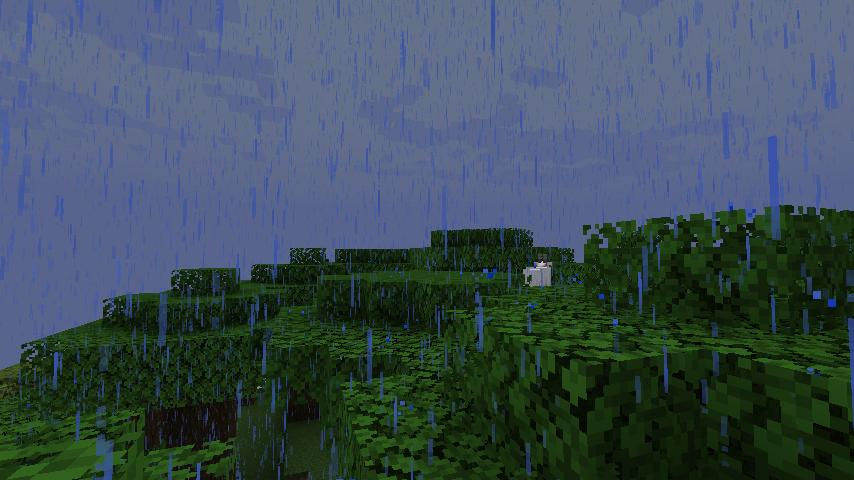goat: (524, 252, 554, 287)
